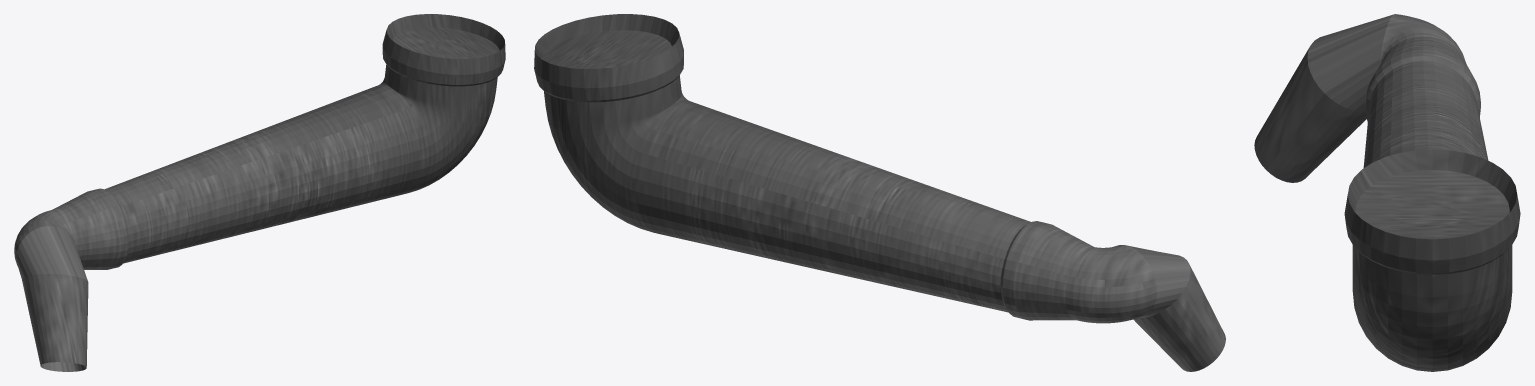
Rendered from extension.fbx.
3 views of the same model, side by side, from view 1: azimuth 30°, elevation 25°; view 2: azimuth 150°, elevation 25°; view 3: azimuth 270°, elevation 25° (orthographic). The views are drawn at different scales.
Parts seen in each view (by area): view 1: Cylinder; view 2: Cylinder; view 3: Cylinder.
Boxes of the visible parts, x1,y1,x2,y2 form: Cylinder: (14,14,505,371); Cylinder: (534,14,1225,371); Cylinder: (1254,14,1520,371).
Size of the model in its own units: 264 by 102 by 84.62.
